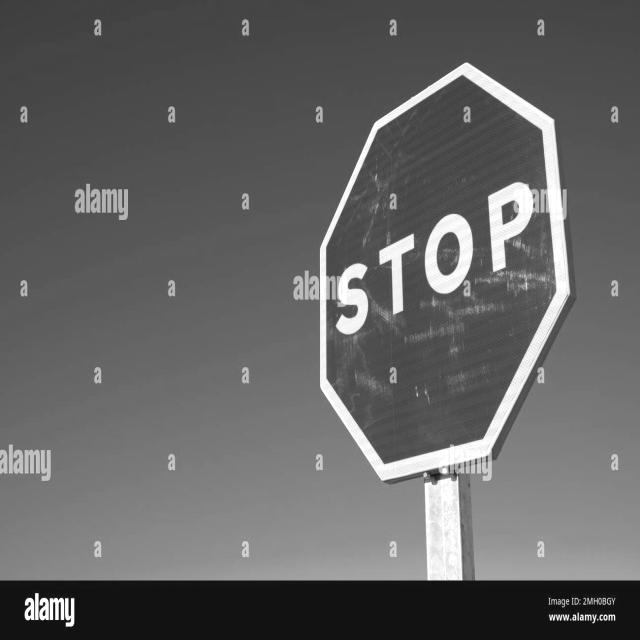Stop-sign: (304, 24, 590, 489)
